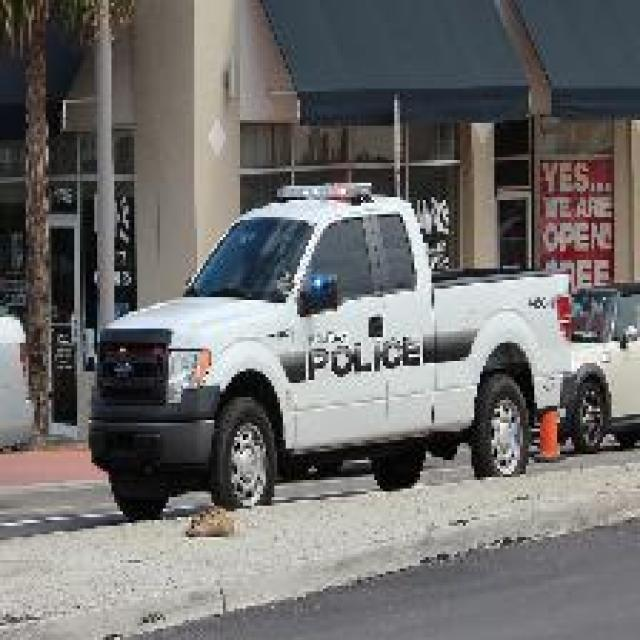Ad-signs: (532, 152, 614, 292)
Police-car: (83, 177, 574, 517)
